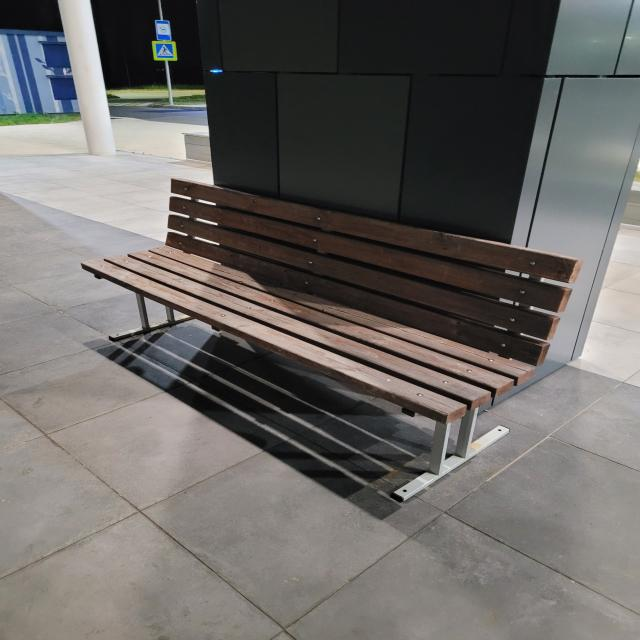Bench: (81, 178, 584, 502)
